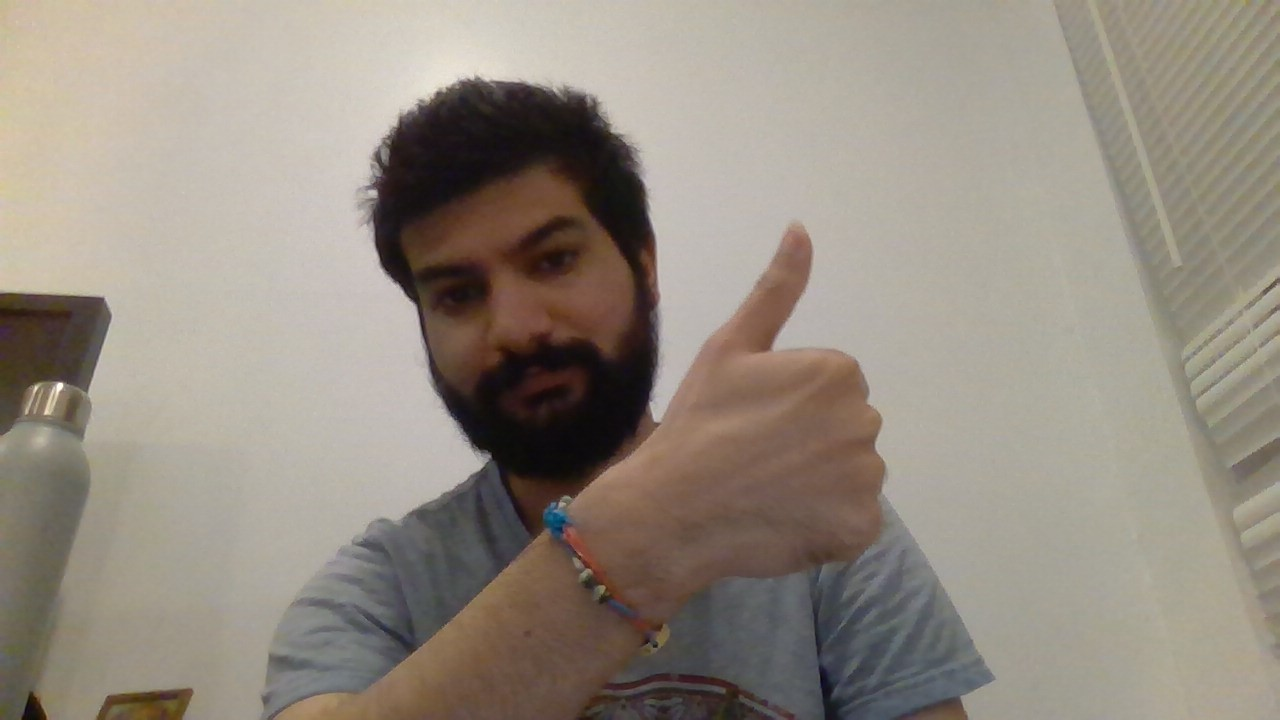up: (684, 209, 896, 571)
